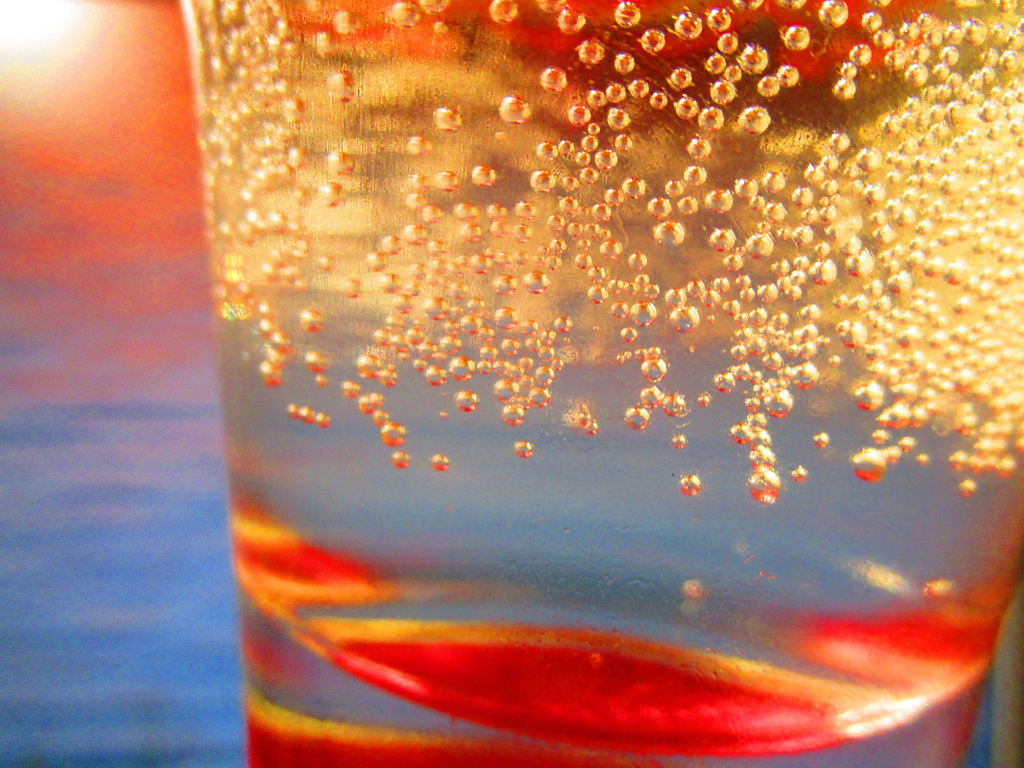glass of water: (211, 4, 950, 763)
